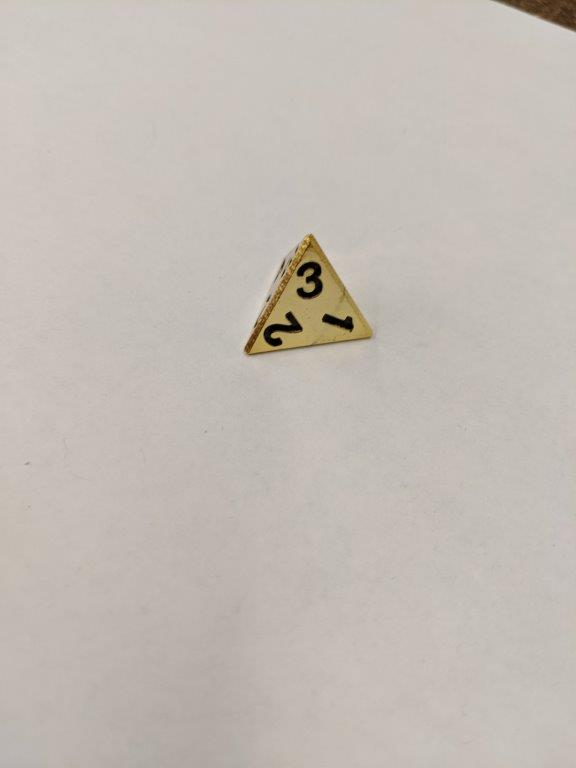d4-3: (244, 226, 378, 366)
